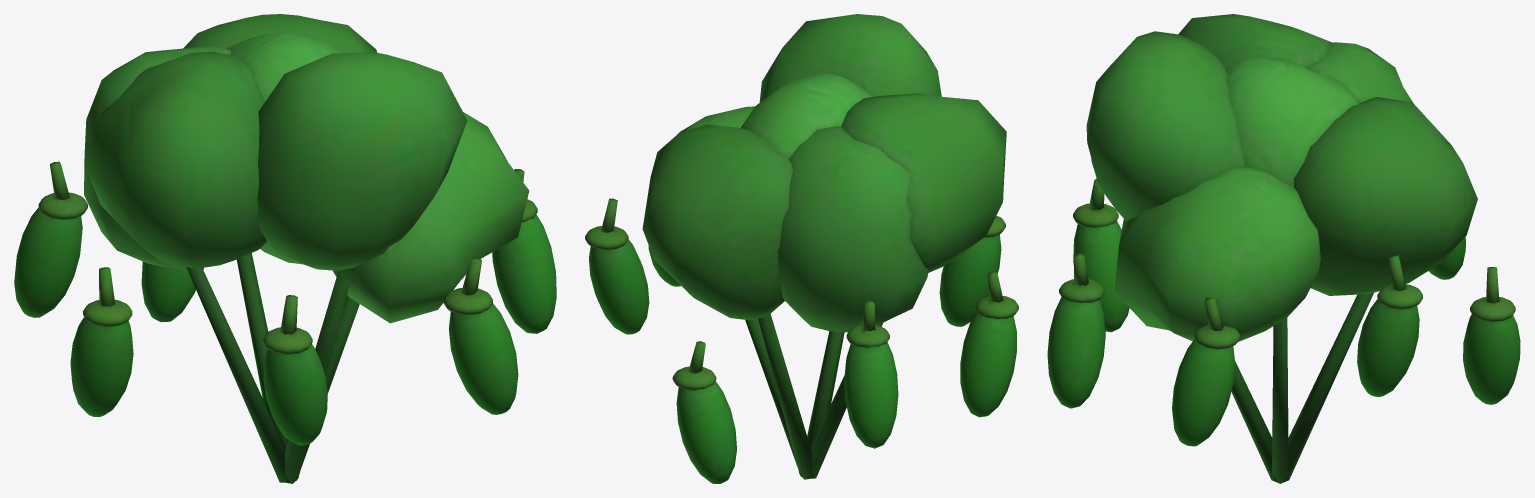
Rendered from crop_jalapeno.glb.
3 renders of one model, left to right at view 1: azimuth 30°, elevation 25°; view 2: azimuth 150°, elevation 25°; view 3: azimuth 270°, elevation 25°, orthographic. The views are drawn at different scales.
Visible parts, largest first — view 1: crop_jalapeno, fruit; view 2: crop_jalapeno, fruit; view 3: crop_jalapeno, fruit.
Boxes of the visible parts, <box> form: crop_jalapeno: <box>38,14,537,483</box>; fruit: <box>14,195,556,445</box>; crop_jalapeno: <box>585,14,1018,479</box>; fruit: <box>589,228,1016,483</box>; crop_jalapeno: <box>1059,14,1515,483</box>; fruit: <box>1047,207,1520,446</box>.
Size of the model in its own units: 0.2446 by 0.246 by 0.2442.
1 material, 1 textured.
